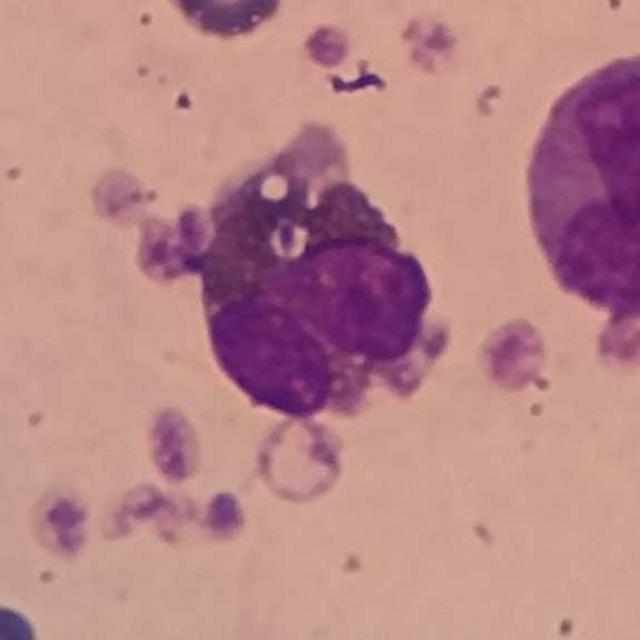Eosinophil: (163, 111, 462, 446), (519, 51, 640, 324)
Platelets: (248, 406, 351, 510), (473, 315, 554, 397), (141, 401, 205, 486), (138, 208, 212, 281), (27, 484, 94, 561), (85, 164, 158, 229), (398, 10, 462, 77), (586, 313, 640, 375), (299, 20, 354, 71), (198, 487, 248, 541)
RBC: (141, 0, 302, 47), (0, 596, 46, 639)
